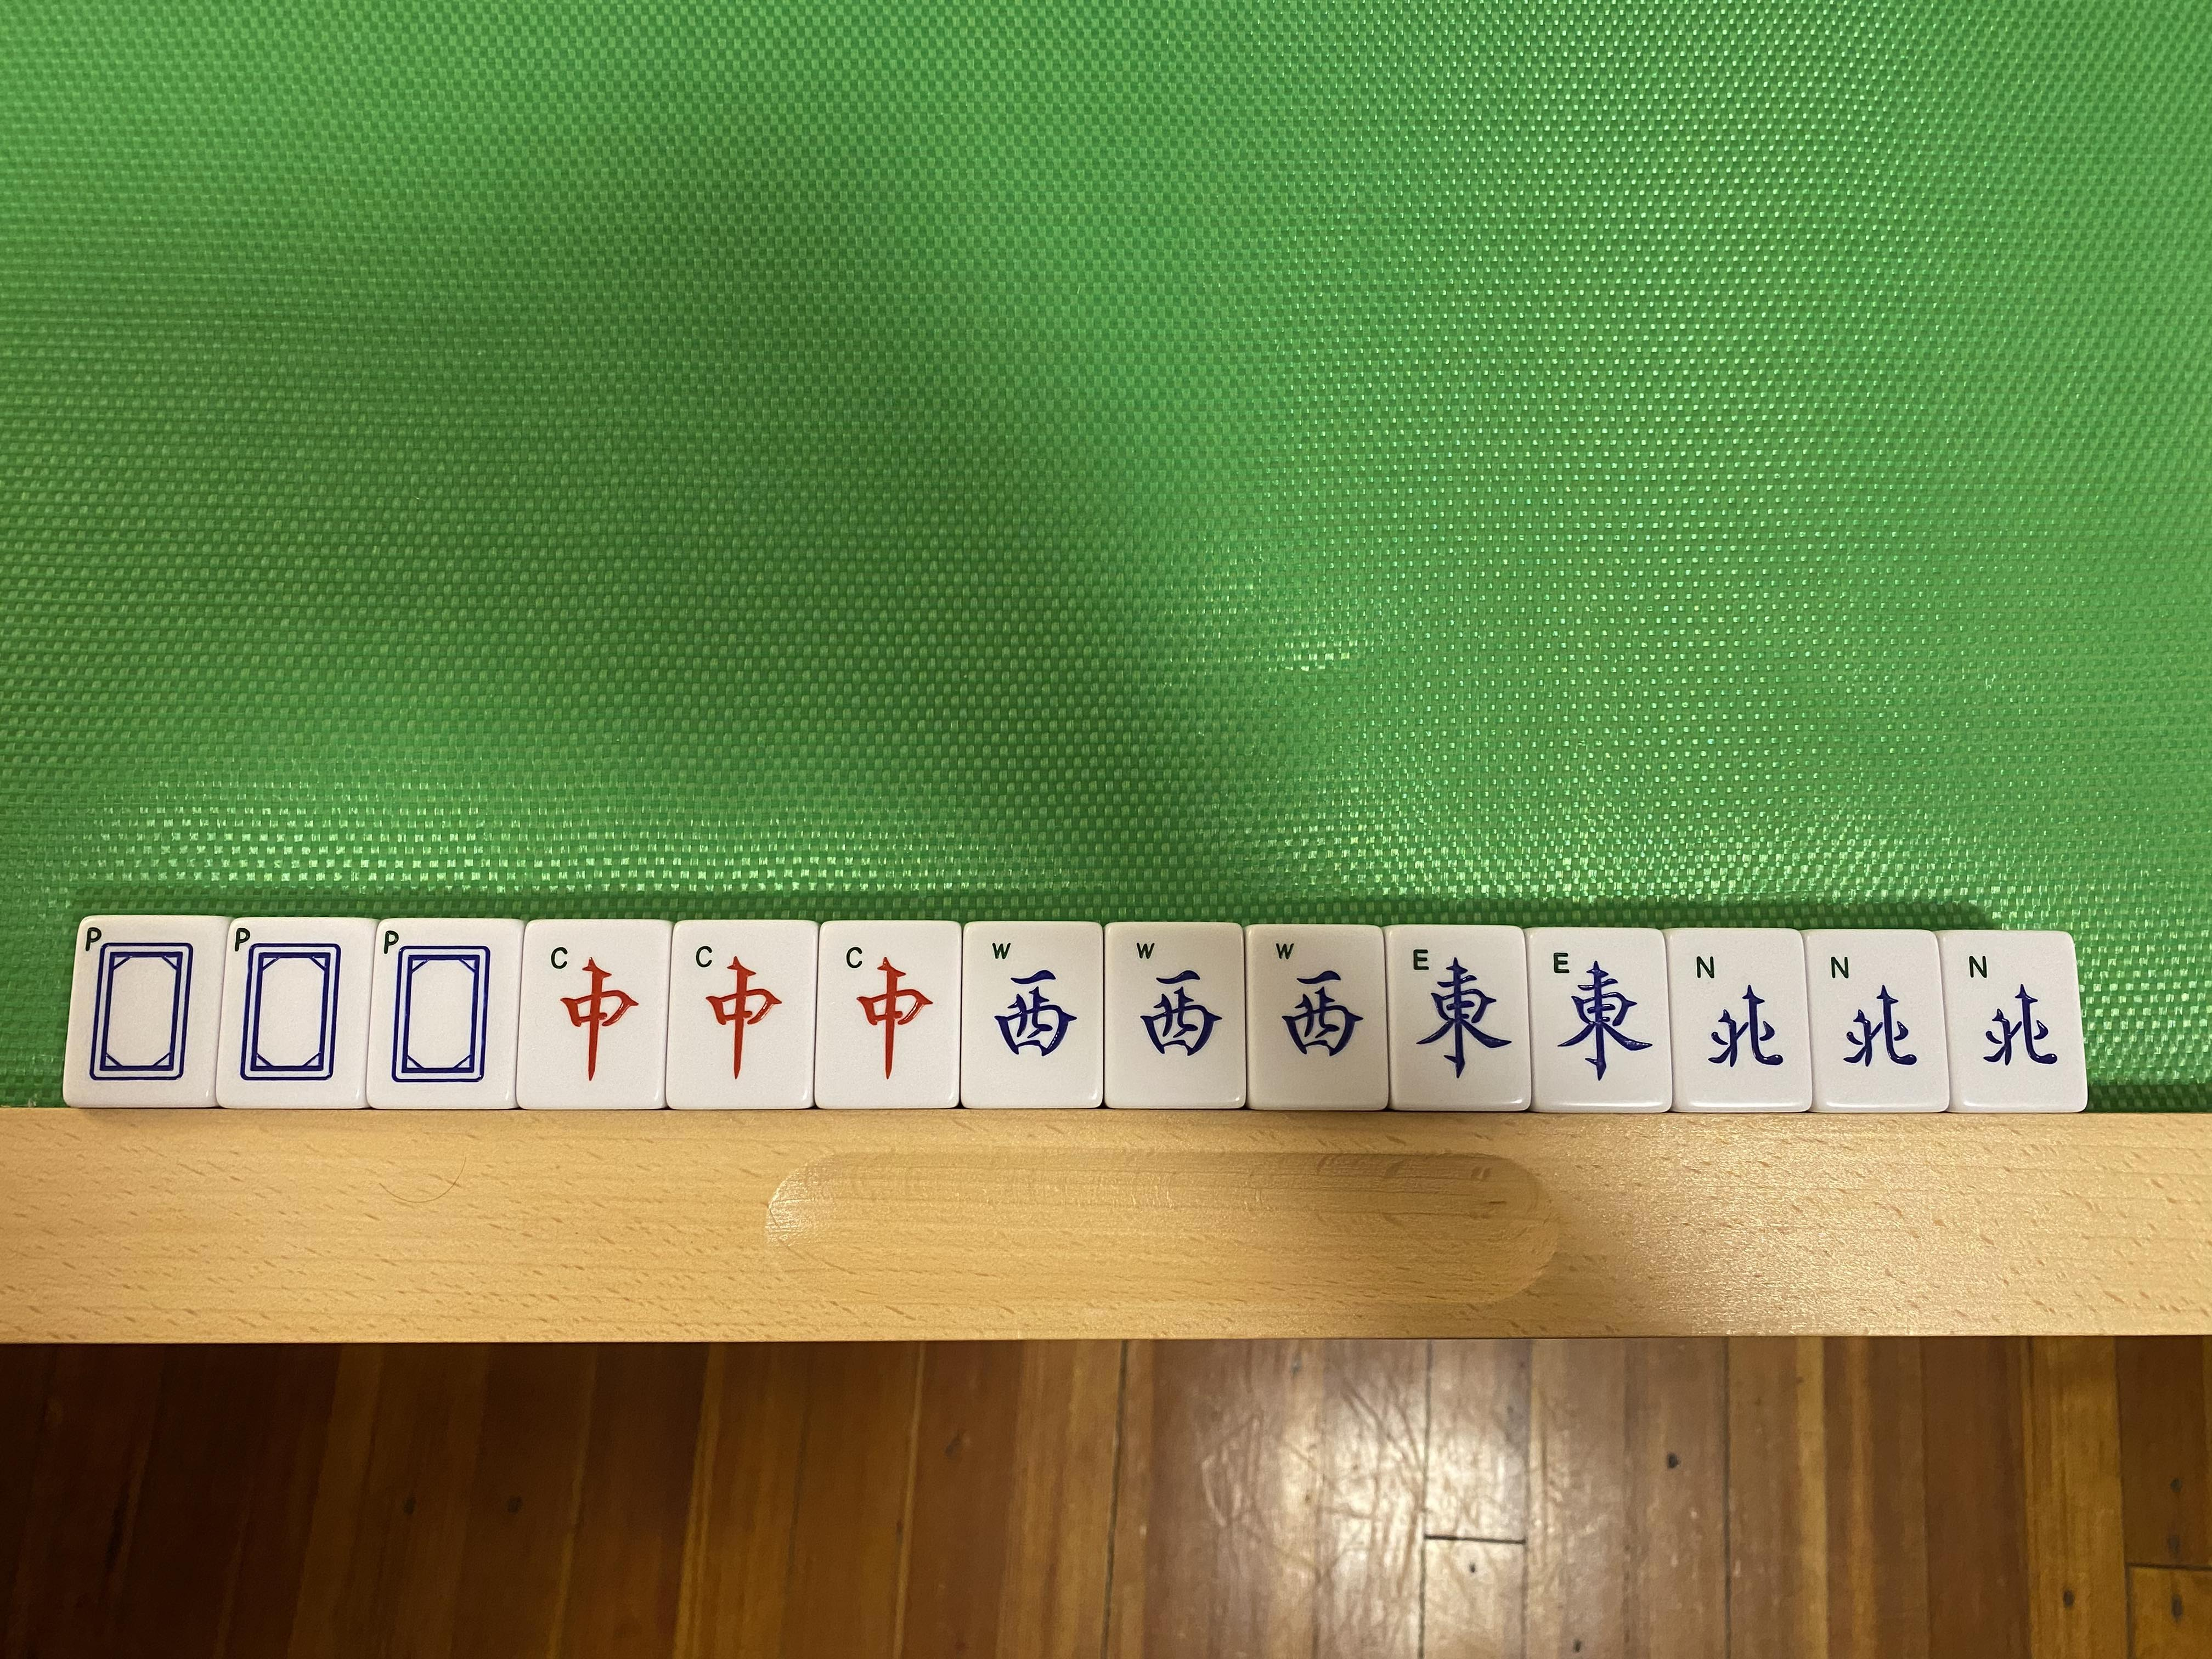honor-blue_dragon: (368, 925, 516, 1105), (228, 920, 362, 1105), (78, 915, 209, 1103)
honor-east_wind: (1390, 929, 1526, 1108), (1534, 929, 1665, 1107)
honor-north_wind: (1674, 931, 1804, 1105), (1952, 936, 2076, 1114), (1815, 929, 1937, 1108)
honor-red_dragon: (523, 924, 665, 1110), (671, 924, 815, 1105), (817, 924, 958, 1105)
honor-west_wind: (961, 927, 1103, 1107), (1104, 925, 1242, 1105), (1249, 927, 1383, 1105)
